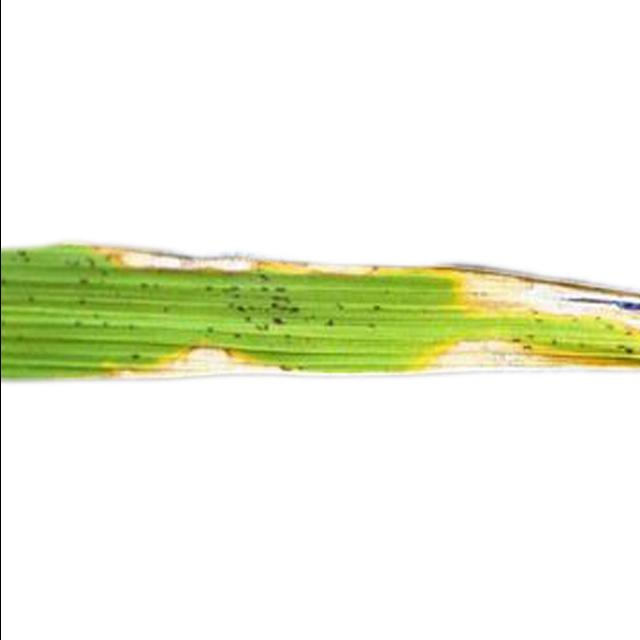Leaf scald: (0, 220, 640, 469)
